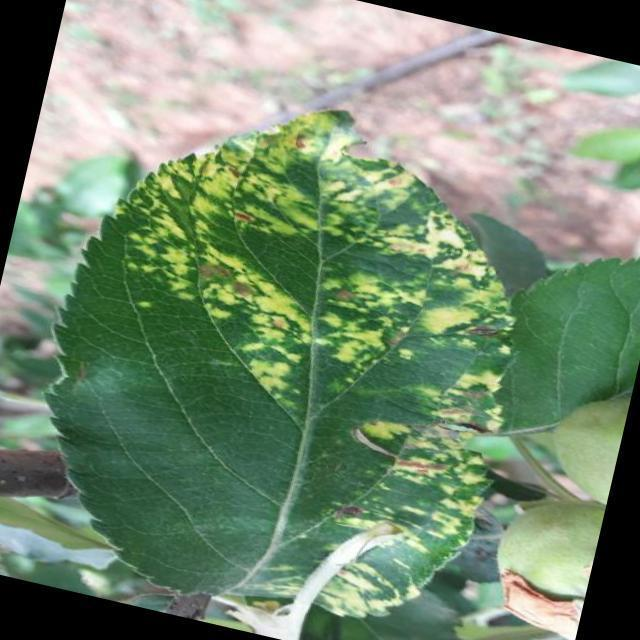Mosaic Virus: (54, 104, 560, 640)
